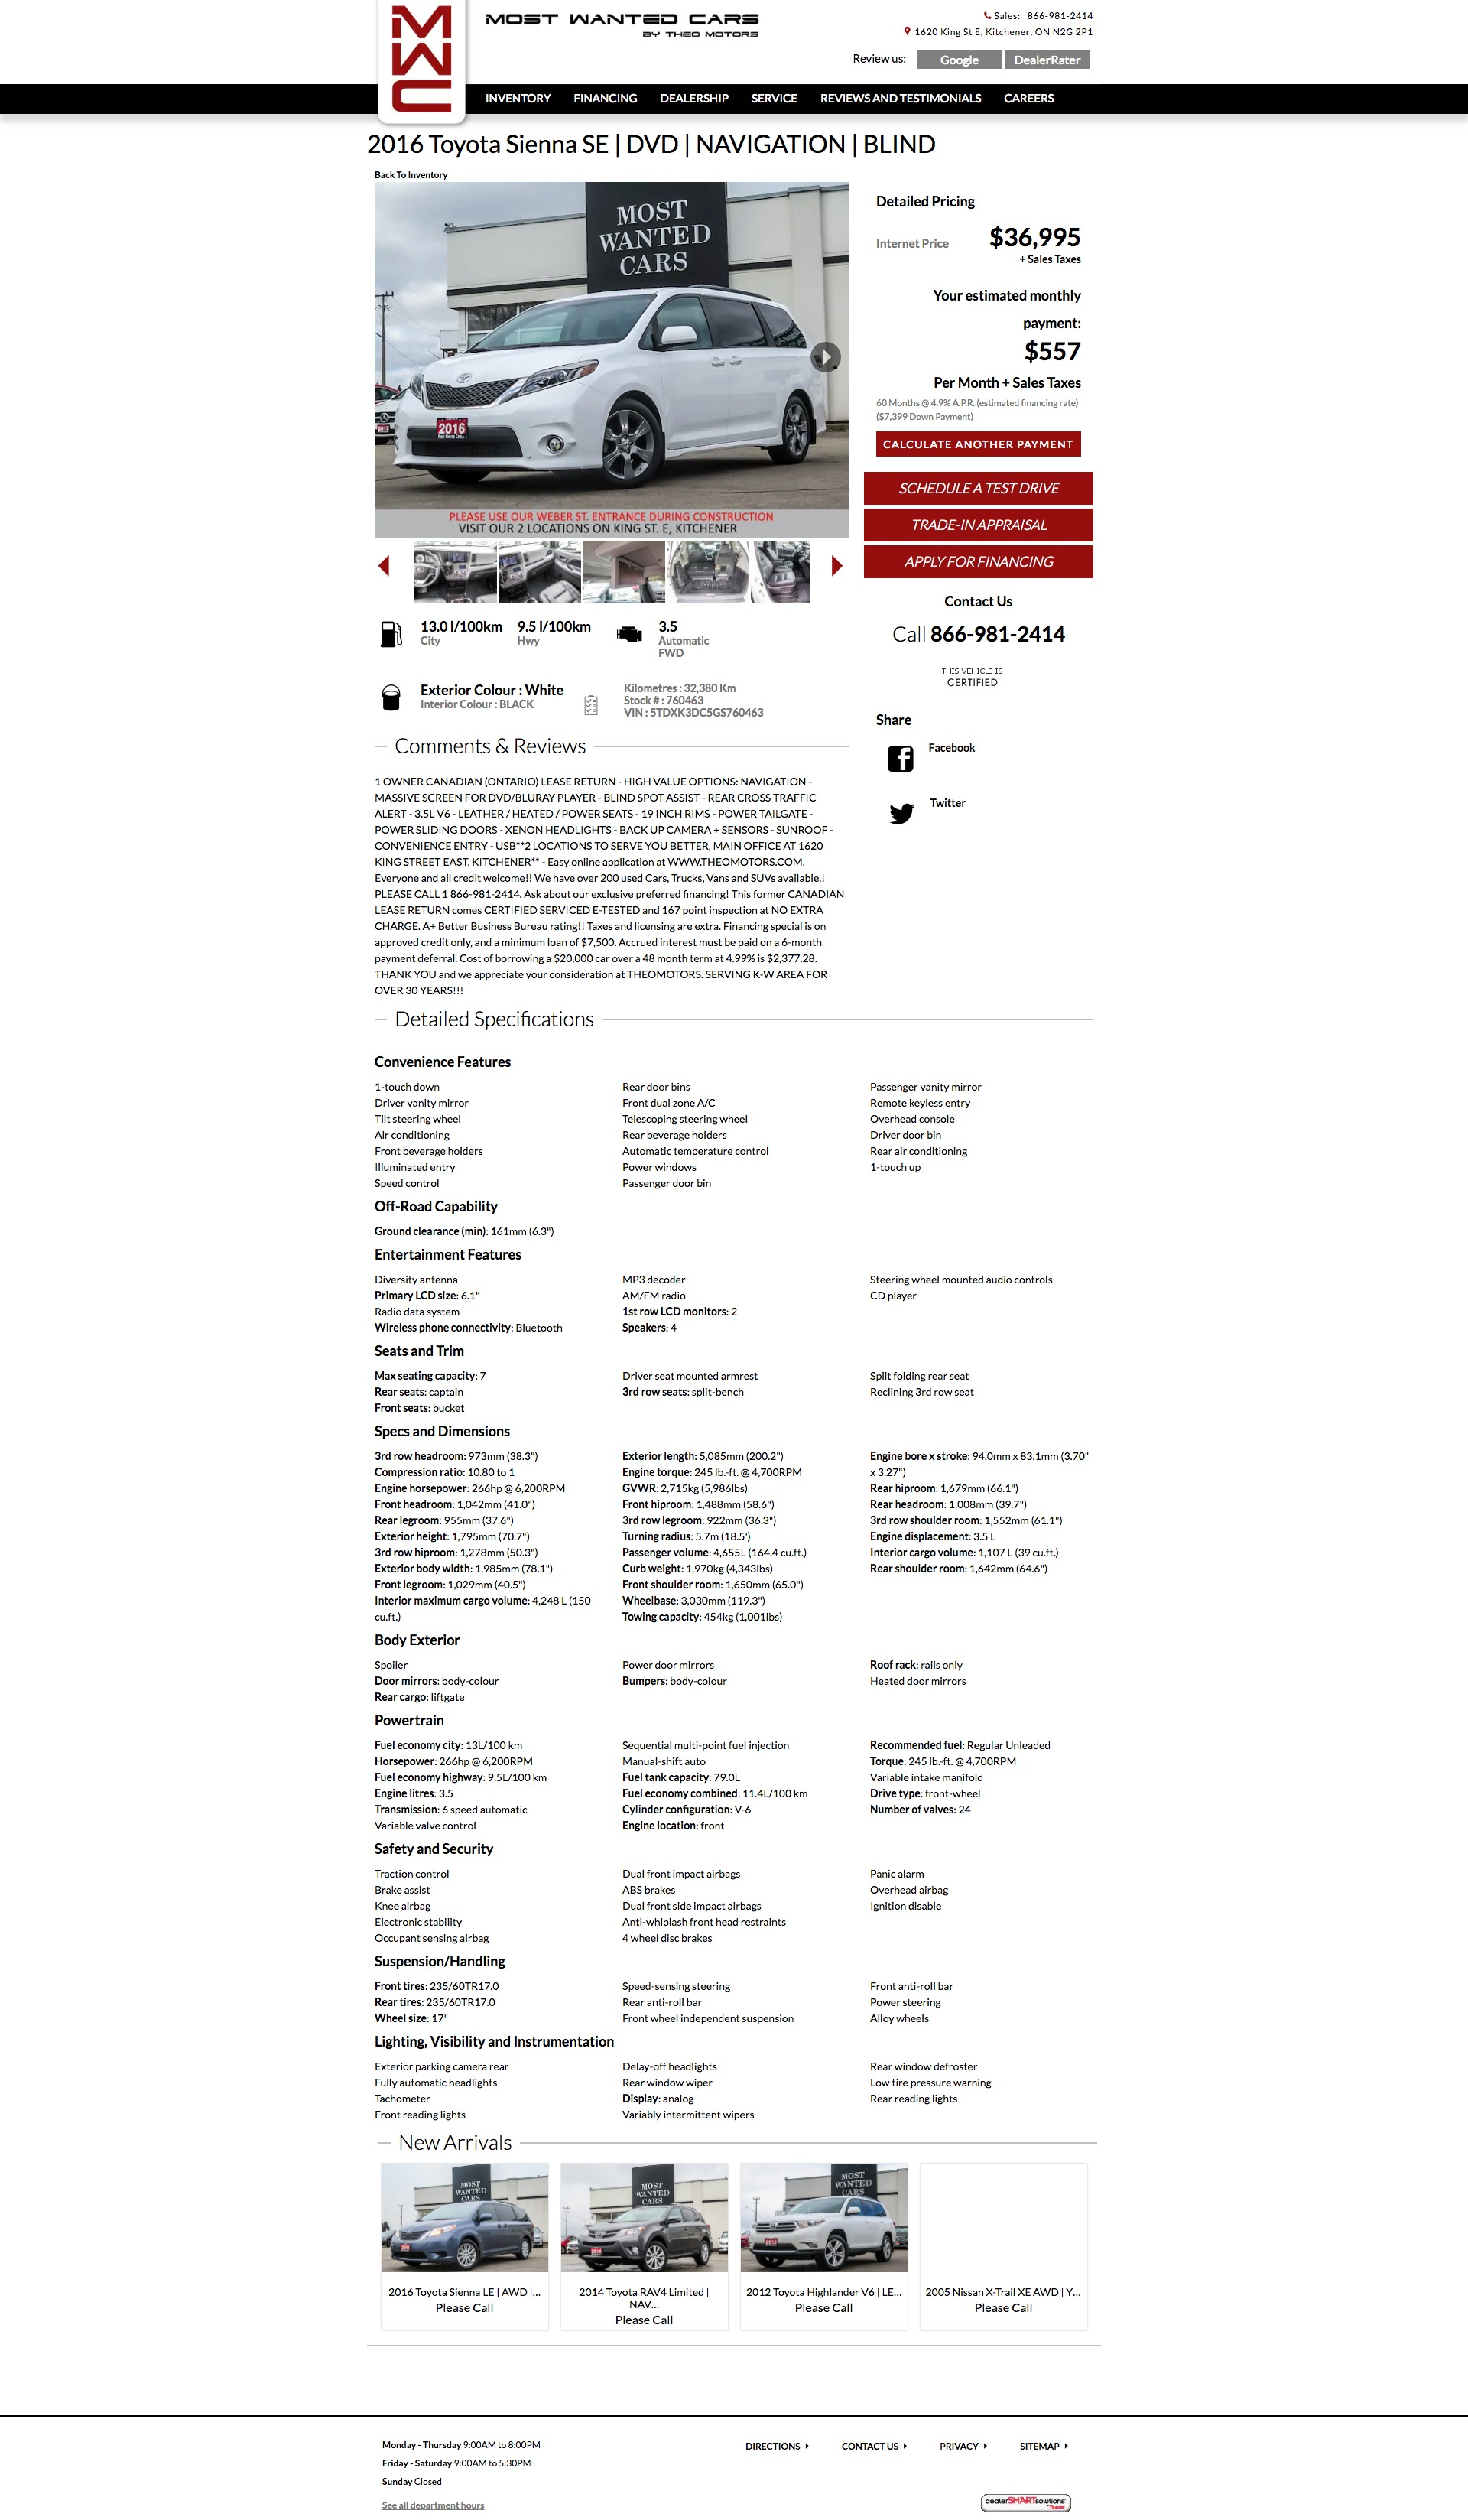car: (832, 556, 844, 578)
